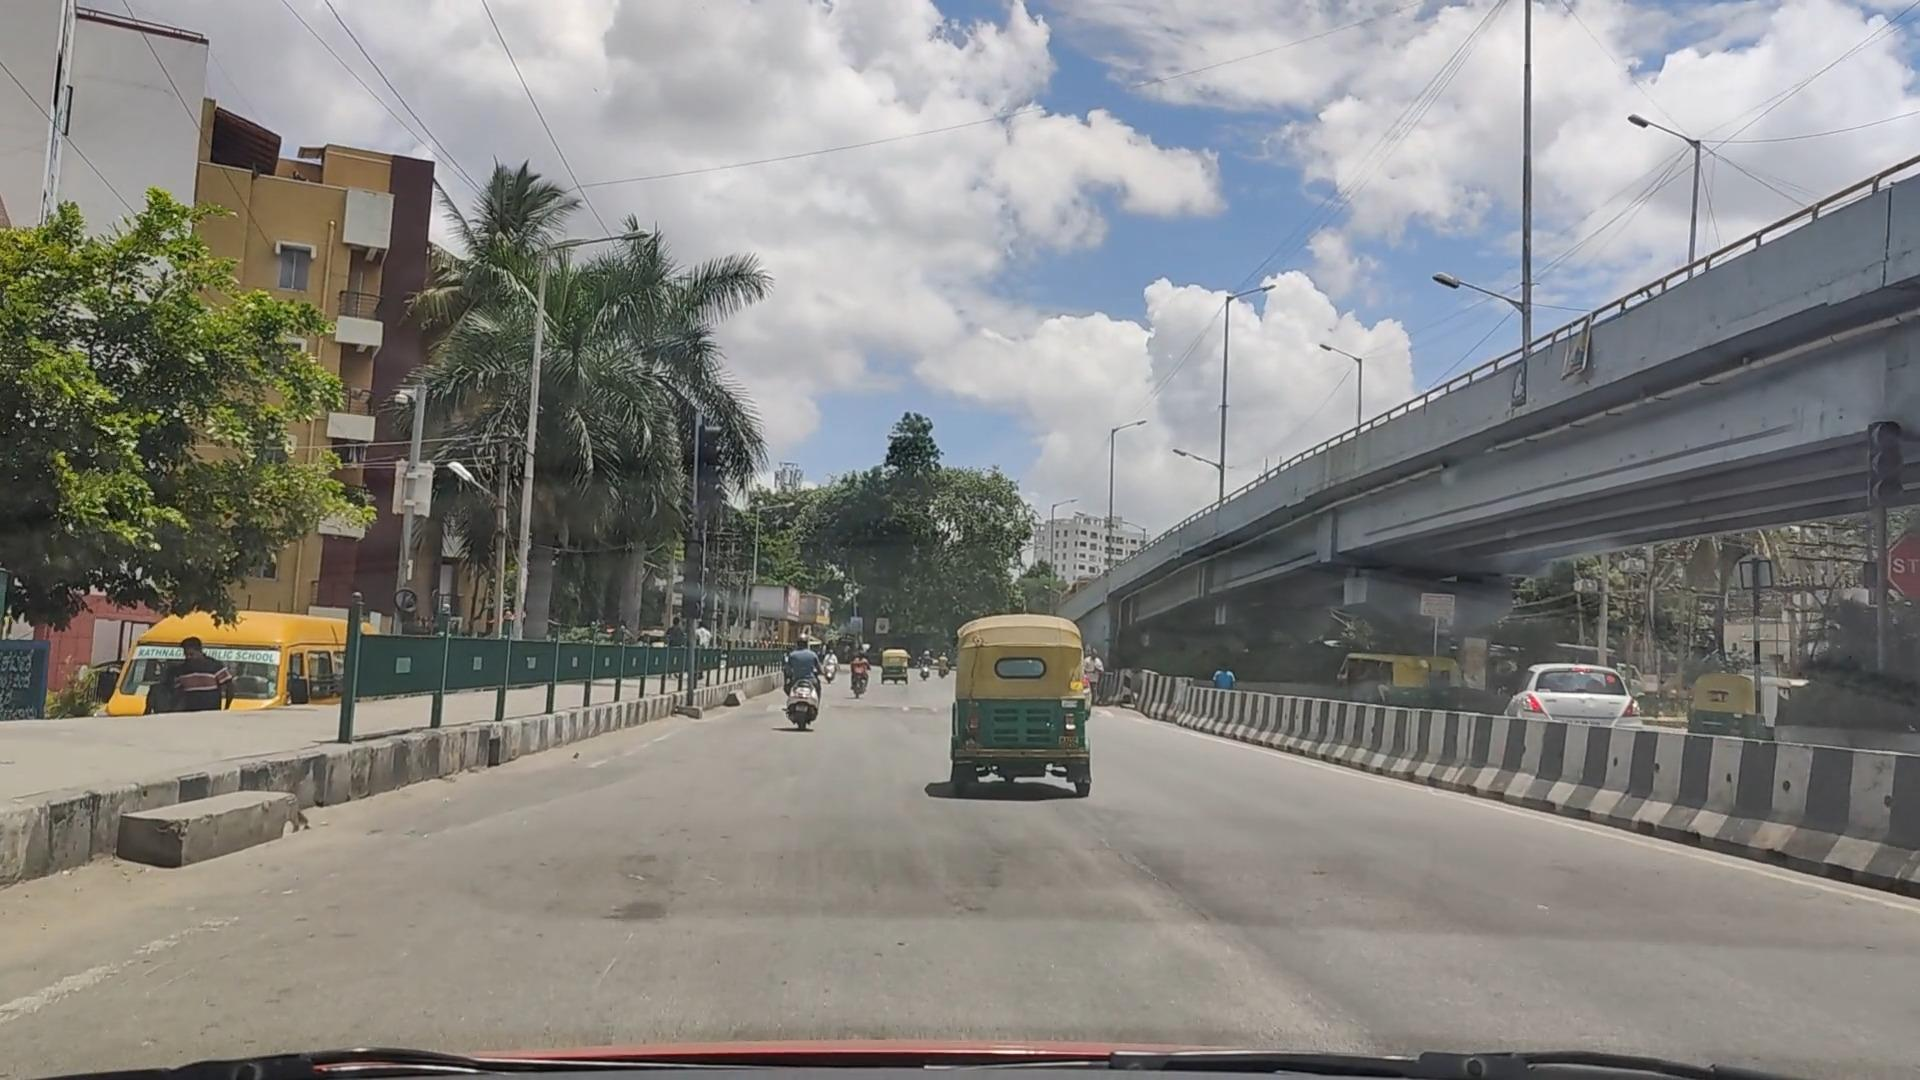LMV: (940, 610, 1100, 812)
RoadDamages: (1150, 877, 1346, 1027)
